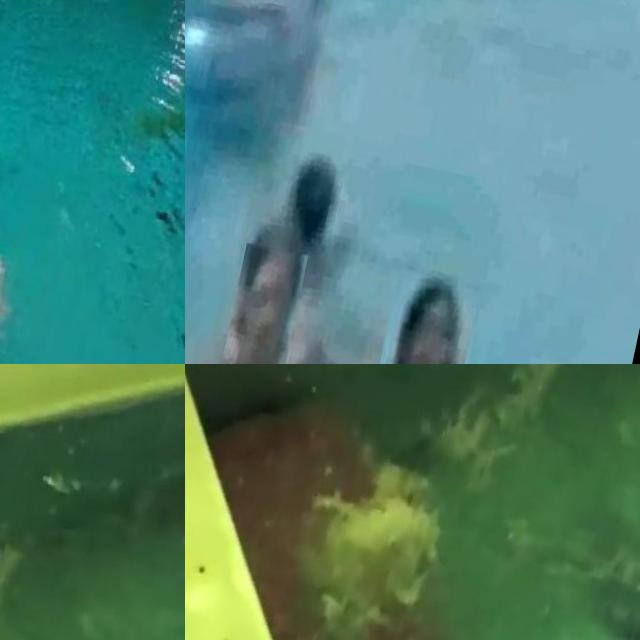drowning: (288, 437, 454, 640), (276, 136, 373, 261)
swimming: (216, 242, 309, 364), (368, 268, 481, 364), (186, 0, 319, 36), (288, 323, 379, 364)
